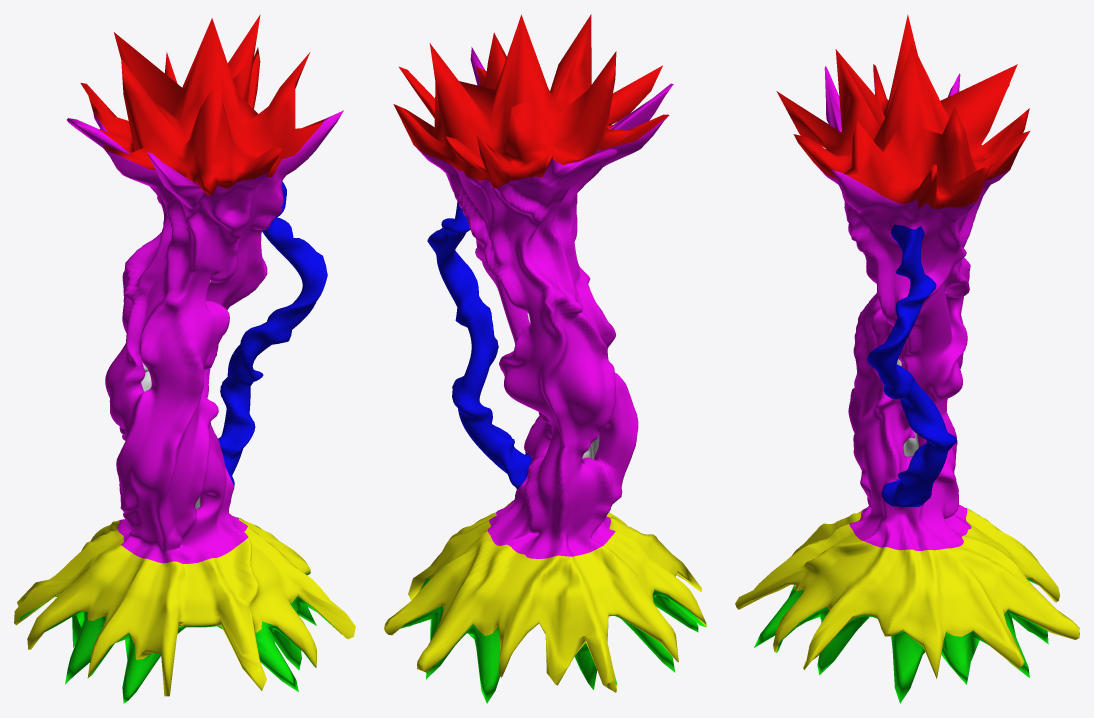
File: Column_with_limb_01_no_textures.fbx
3 views of the same model, side by side, from view 1: azimuth 30°, elevation 25°; view 2: azimuth 150°, elevation 25°; view 3: azimuth 270°, elevation 25° (orthographic). The views are drawn at different scales.
Parts seen in each view (by area): view 1: pCylinder1; view 2: pCylinder1; view 3: pCylinder1.
Boxes of the visible parts, bbox=[...] form: pCylinder1: bbox=[14, 14, 355, 703]; pCylinder1: bbox=[384, 14, 706, 703]; pCylinder1: bbox=[735, 14, 1079, 703].
Bounding box in the file's own units: 64.73 × 70.19 × 139.
